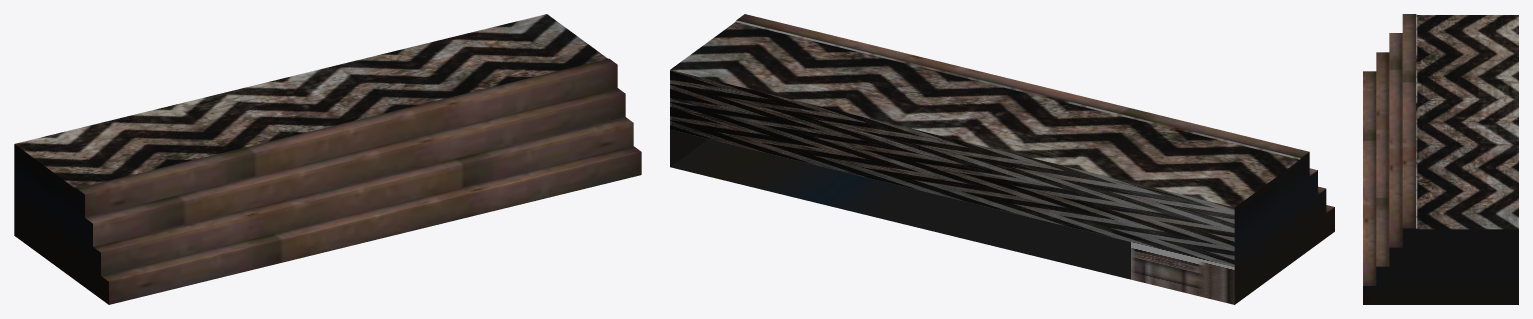
The model's file is Slap_SH_Stairs_01.fbx.
3 renders of one model, left to right at view 1: azimuth 30°, elevation 25°; view 2: azimuth 150°, elevation 25°; view 3: azimuth 270°, elevation 25°, orthographic. The views are drawn at different scales.
Parts seen in each view (by area): view 1: Slap_SH_Stairs_01; view 2: Slap_SH_Stairs_01; view 3: Slap_SH_Stairs_01.
Boxes of the visible parts, x1,y1,x2,y2 form: Slap_SH_Stairs_01: (14,14,641,304); Slap_SH_Stairs_01: (670,14,1334,304); Slap_SH_Stairs_01: (1363,14,1518,304).
Bounding box in the file's own units: 3 × 0.5 × 0.922.
Materials: 1 (1 with a texture image).
